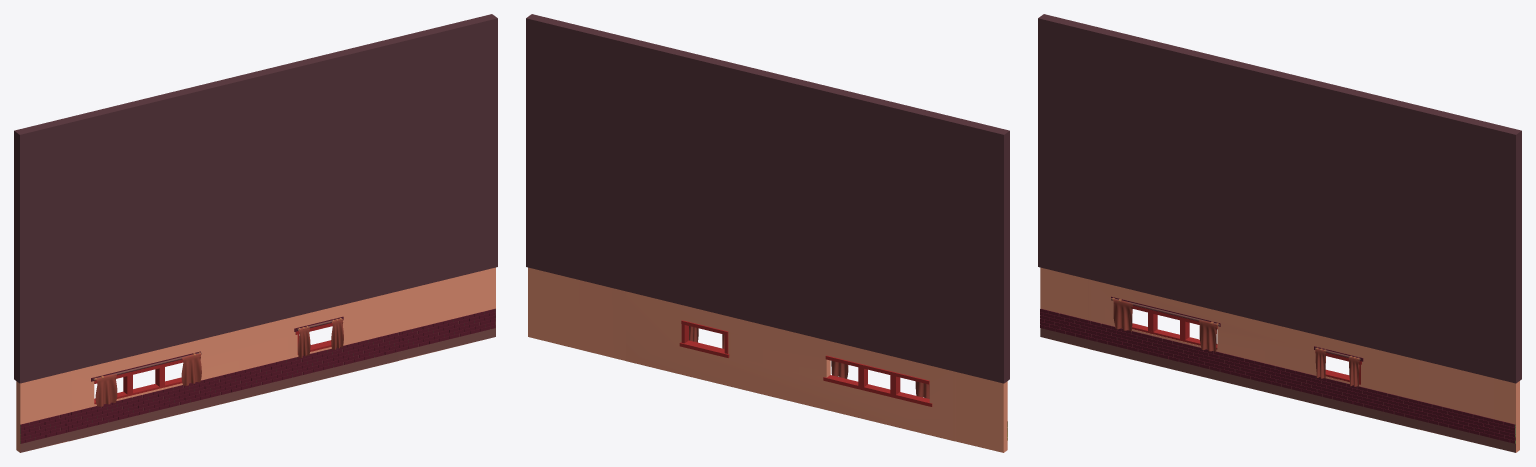
Rendered from Parede-Fundo.fbx.
3 renders of one model, left to right at view 1: azimuth 30°, elevation 25°; view 2: azimuth 150°, elevation 25°; view 3: azimuth 330°, elevation 25°, orthographic.
Visible parts, largest first — view 1: Cube.001; view 2: Cube.001; view 3: Cube.001.
Boxes of the visible parts, <box> form: Cube.001: <box>14,14,497,452</box>; Cube.001: <box>526,14,1009,452</box>; Cube.001: <box>1038,14,1521,452</box>.
Size of the model in its own units: 26.98 by 17.22 by 0.7748.
